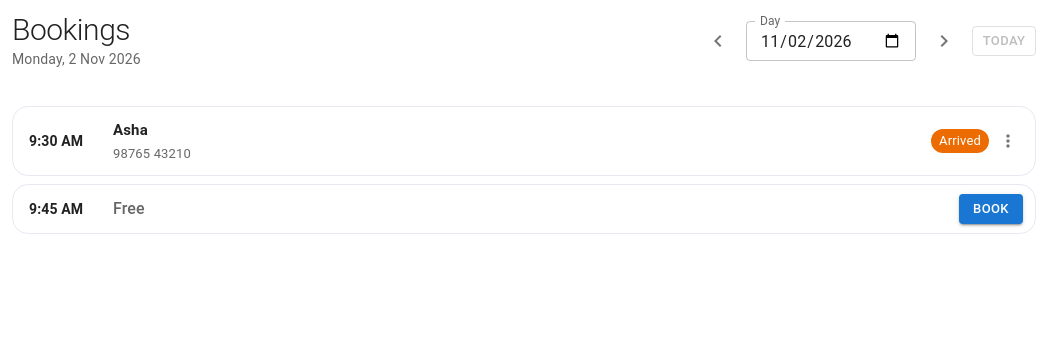
it: an arrived appointment offers no Arrived action
This screenshot has width=1048, height=346.
Expected: the text "Arrived" is shown, [939,133,981,148]
Click the button named "actions for asha": x=1008, y=141 [993,126,1023,156]
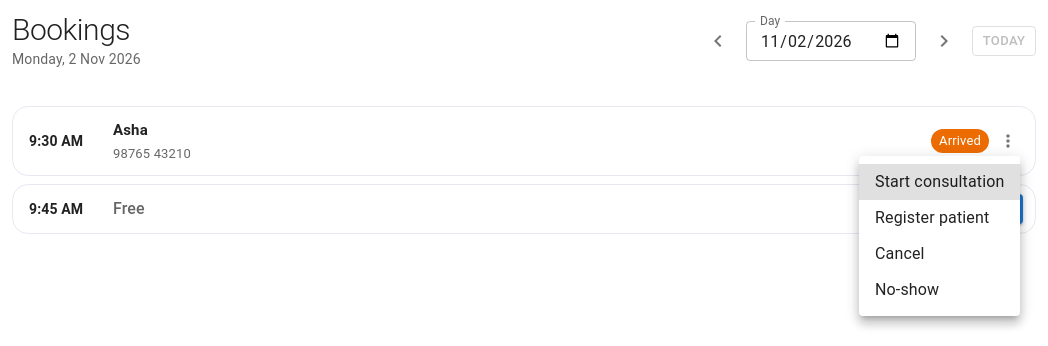
Expected: the menu item "Register patient" is shown, [875,208,989,227]
